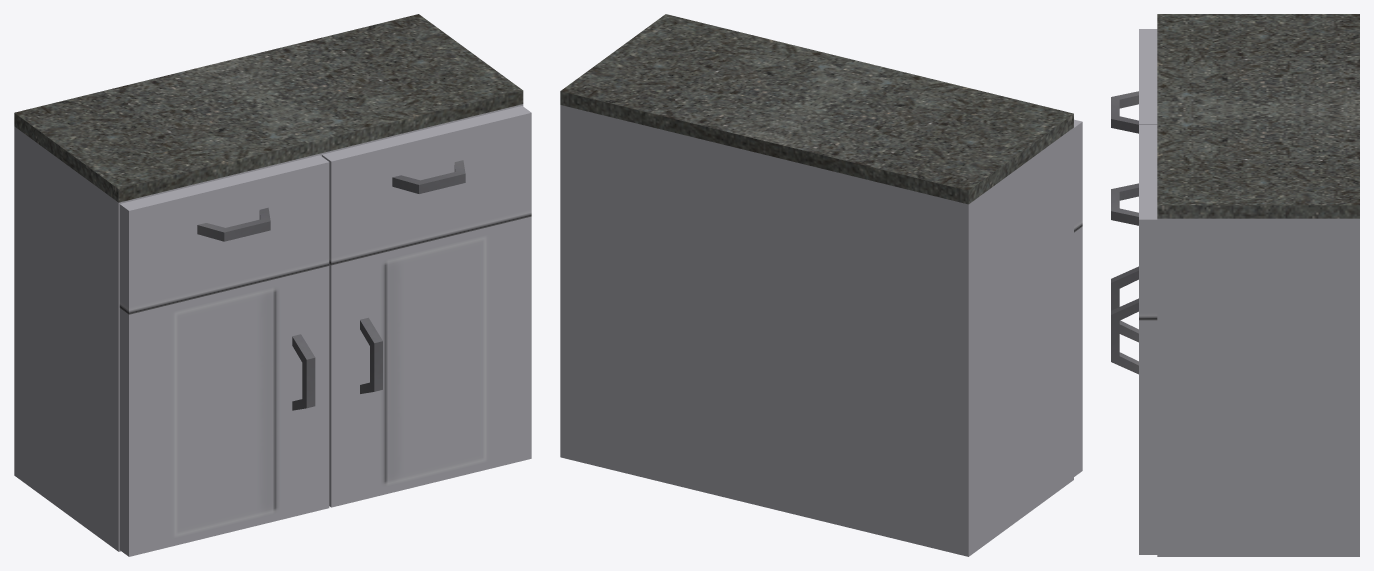
Rendered from Kitchen_Cabinet_2D.fbx.
The picture shows the model from 3 angles, left to right: view 1: azimuth 30°, elevation 25°; view 2: azimuth 150°, elevation 25°; view 3: azimuth 270°, elevation 25°; orthographic projection. The views are drawn at different scales.
Parts seen in each view (by area): view 1: polySurface966; view 2: polySurface966; view 3: polySurface966.
Boxes of the visible parts, left/top/right/bottom form: polySurface966: left=14, top=14, right=531, bottom=556; polySurface966: left=560, top=14, right=1082, bottom=556; polySurface966: left=1111, top=14, right=1359, bottom=556.
Bounding box in the file's own units: 1.56 × 1.34 × 0.8565.
